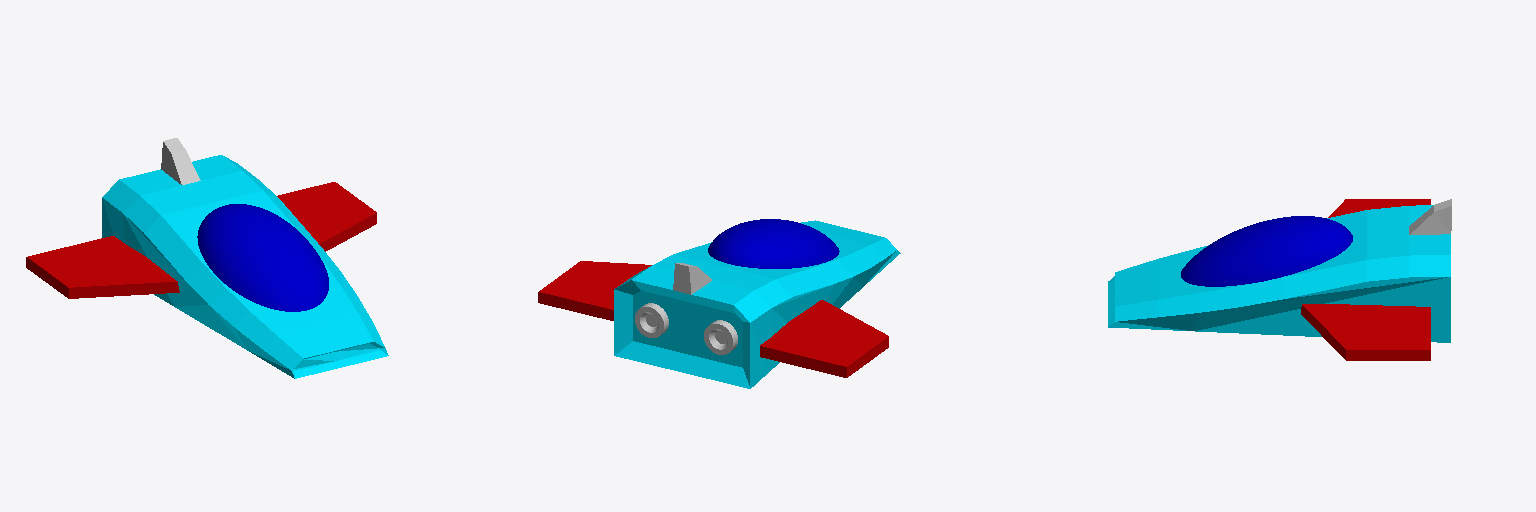
Rendered from ship.obj.
The picture shows the model from 3 angles: view 1: azimuth 30°, elevation 25°; view 2: azimuth 150°, elevation 25°; view 3: azimuth 270°, elevation 25°; orthographic projection.
Visible parts, largest first — view 1: Cube, Cube.001, Sphere; view 2: Cube, Cube.001, Sphere, Cylinder, Cylinder.001; view 3: Cube, Sphere, Cube.001.
Boxes of the visible parts, box(x1,y1,x2,y2) form: Cube: box(102, 138, 388, 378); Cube.001: box(26, 182, 376, 298); Sphere: box(197, 204, 328, 311); Cube: box(614, 220, 900, 388); Cube.001: box(538, 261, 888, 377); Sphere: box(708, 219, 839, 268); Cylinder: box(635, 303, 668, 337); Cylinder.001: box(704, 320, 737, 354); Cube: box(1108, 199, 1451, 342); Sphere: box(1181, 216, 1352, 286); Cube.001: box(1301, 199, 1430, 360).
Bounding box in the file's own units: 4.52 × 1.51 × 4.37.